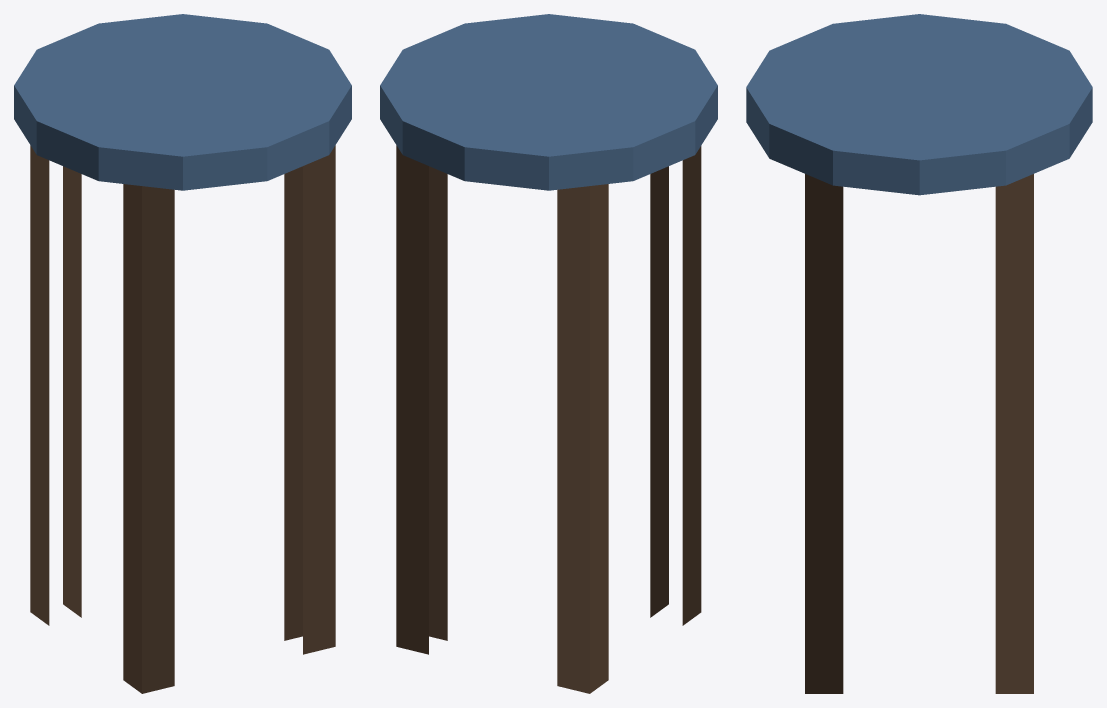
File: stool.glb
The picture shows the model from 3 angles, left to right: view 1: azimuth 30°, elevation 25°; view 2: azimuth 150°, elevation 25°; view 3: azimuth 270°, elevation 25°; orthographic projection. The views are drawn at different scales.
Size of the model in its own units: 0.36 by 0.64 by 0.36.
